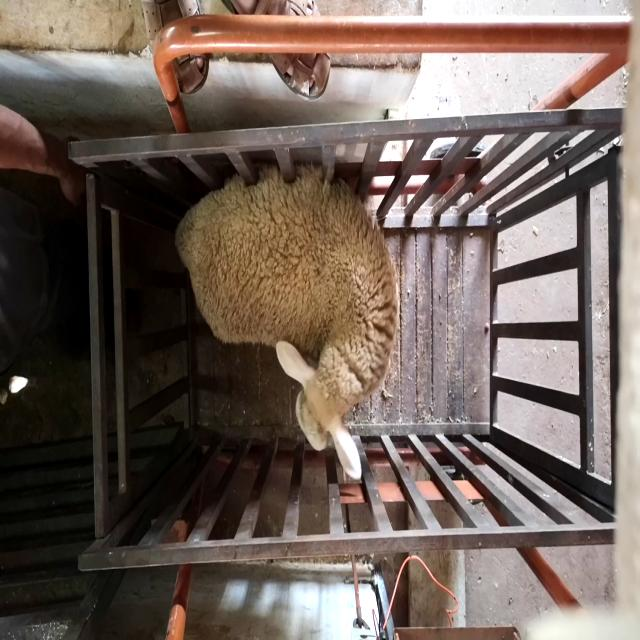sheep: (175, 166, 399, 480)
